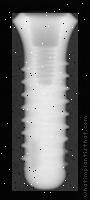Keystone Dental: (12, 13, 78, 191)
